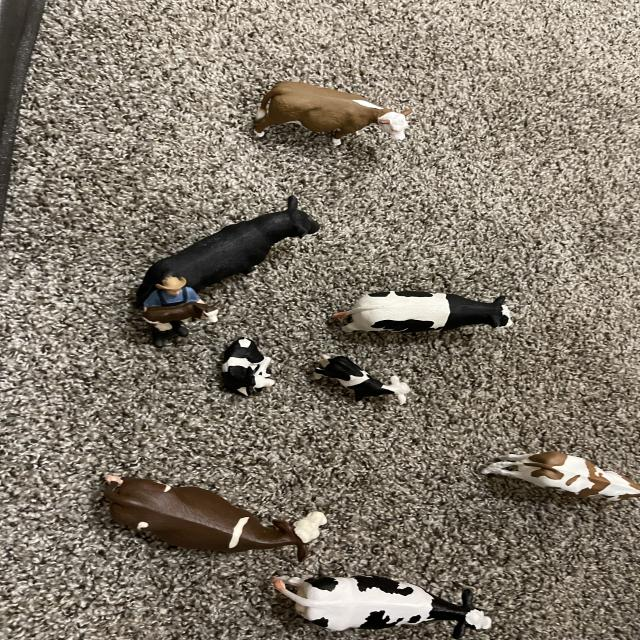cow: (122, 184, 323, 329), (96, 472, 329, 571), (271, 571, 493, 639), (252, 78, 414, 155), (480, 435, 640, 512), (331, 291, 512, 333), (310, 348, 413, 418), (216, 334, 277, 400), (143, 301, 218, 325)
person: (138, 271, 205, 315), (144, 307, 190, 349)
